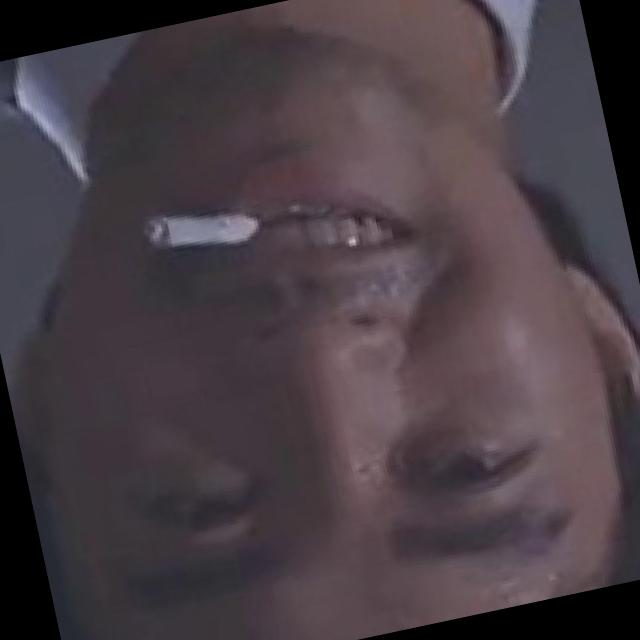smoke: (112, 183, 306, 276)
